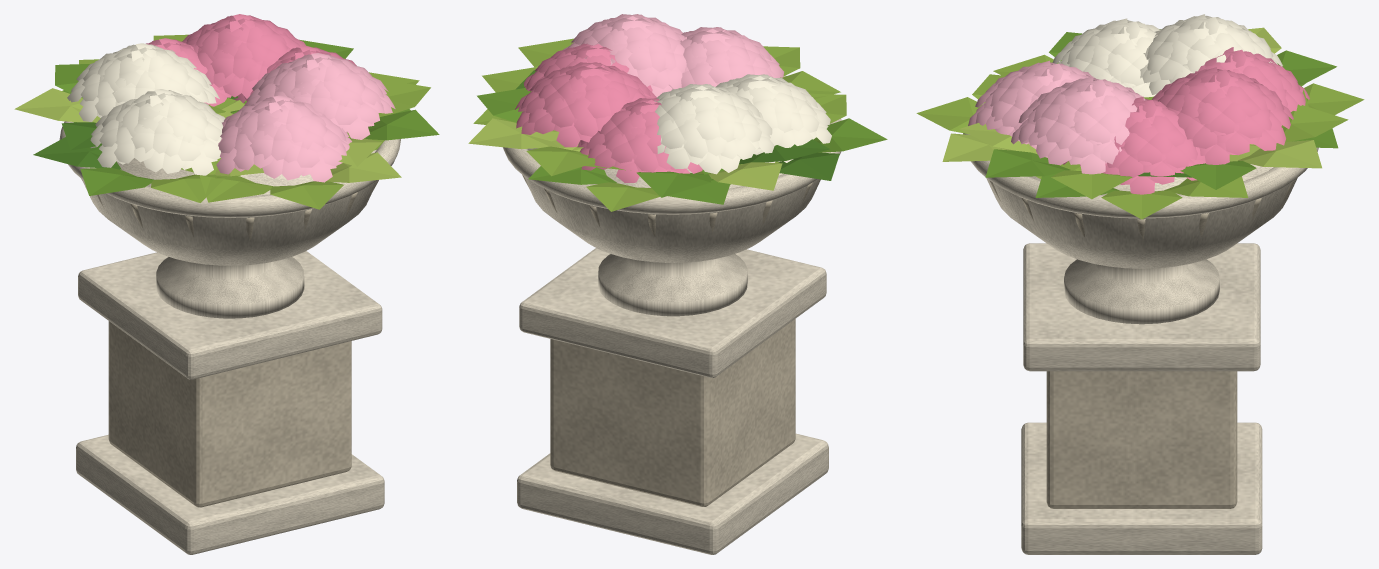
File: flower-urn.glb
3 renders of one model, left to right at view 1: azimuth 30°, elevation 25°; view 2: azimuth 150°, elevation 25°; view 3: azimuth 270°, elevation 25°, orthographic. The views are drawn at different scales.
Parts seen in each view (by area): view 1: flower_urn; view 2: flower_urn; view 3: flower_urn.
Boxes of the visible parts, x1,y1,x2,y2 form: flower_urn: (14,14,439,554); flower_urn: (468,14,887,554); flower_urn: (916,14,1364,554).
Bounding box in the file's own units: 1.14 × 1.3 × 1.15.
10 materials, 3 textured.
